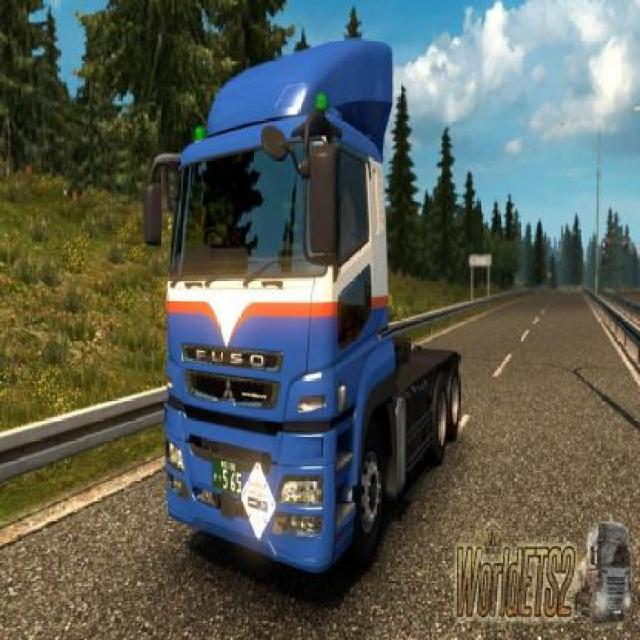truck: (150, 39, 463, 582)
